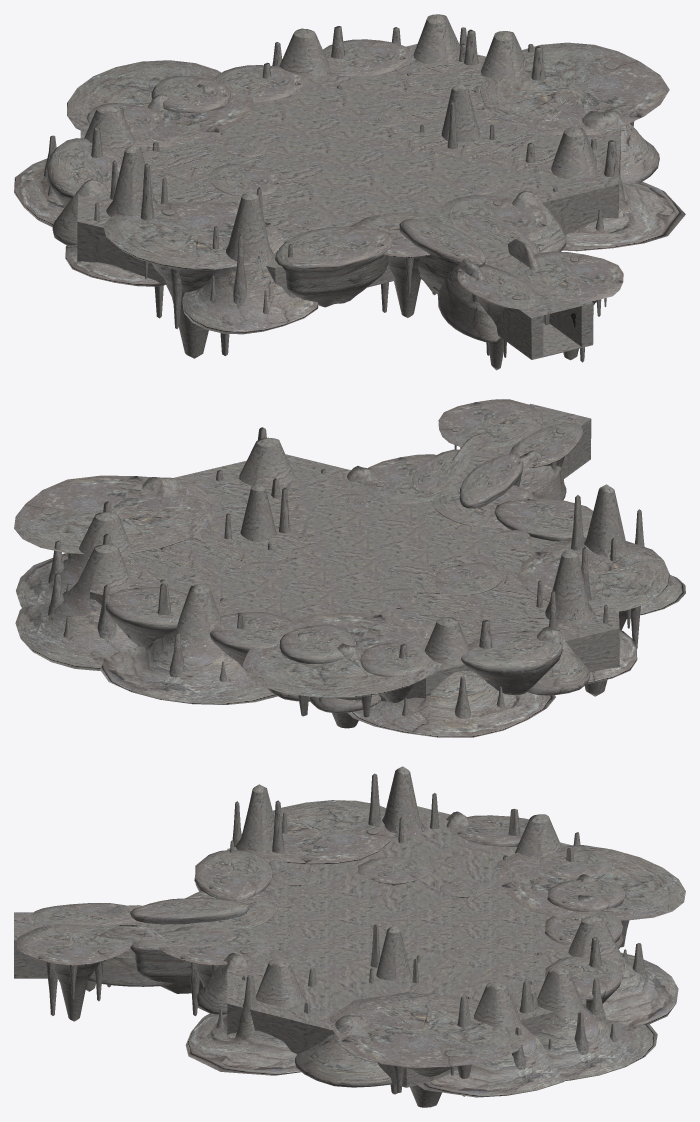
The model's file is Dungeon2BossRoom FBX.fbx.
3 views of the same model, one above another, from view 1: azimuth 30°, elevation 25°; view 2: azimuth 150°, elevation 25°; view 3: azimuth 270°, elevation 25° (orthographic). The views are drawn at different scales.
Parts seen in each view (by area): view 1: polySurface310; view 2: polySurface310; view 3: polySurface310.
Part boxes in pixels (x1=…): polySurface310: x1=14, y1=14, x2=685, y2=370; polySurface310: x1=14, y1=399, x2=685, y2=737; polySurface310: x1=14, y1=766, x2=685, y2=1107.
Size of the model in its own units: 118 by 35.53 by 125.
Materials: 9 (9 with a texture image).
